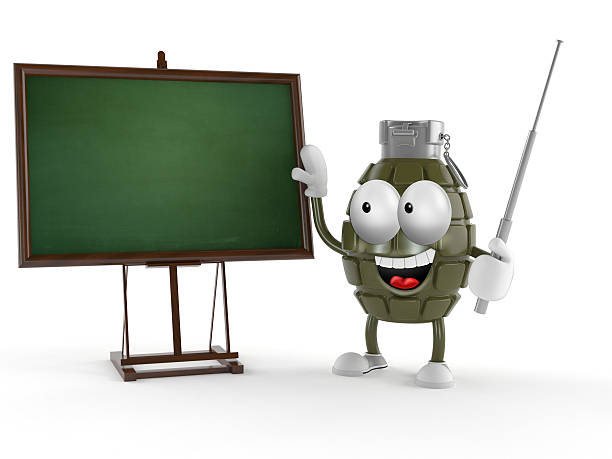e1: (340, 119, 477, 323)
